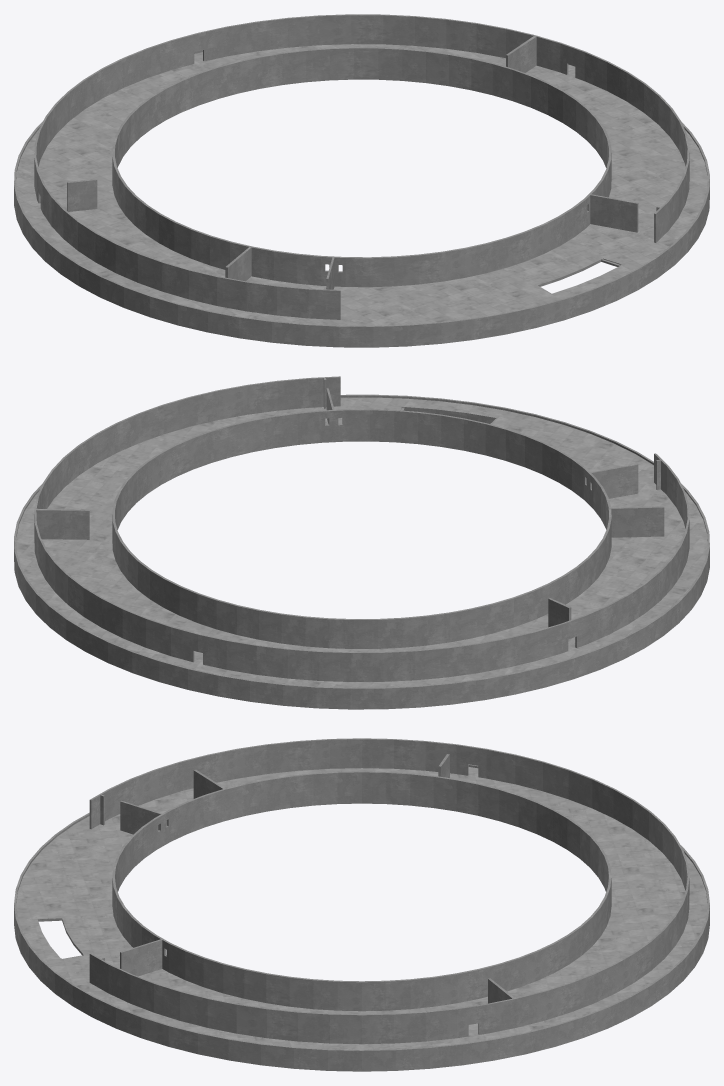
File: Level_2.glb
The picture shows the model from 3 angles, top to bottom: view 1: azimuth 30°, elevation 25°; view 2: azimuth 150°, elevation 25°; view 3: azimuth 270°, elevation 25°; orthographic projection.
Parts seen in each view (by area): view 1: Level 2; view 2: Level 2; view 3: Level 2.
Part boxes in pixels (x1,y1,x2,y2): Level 2: (14, 14, 709, 347); Level 2: (14, 376, 709, 709); Level 2: (14, 738, 709, 1071).
Bounding box in the file's own units: 163 × 12.39 × 163.
Materials: 4 (3 with a texture image).
